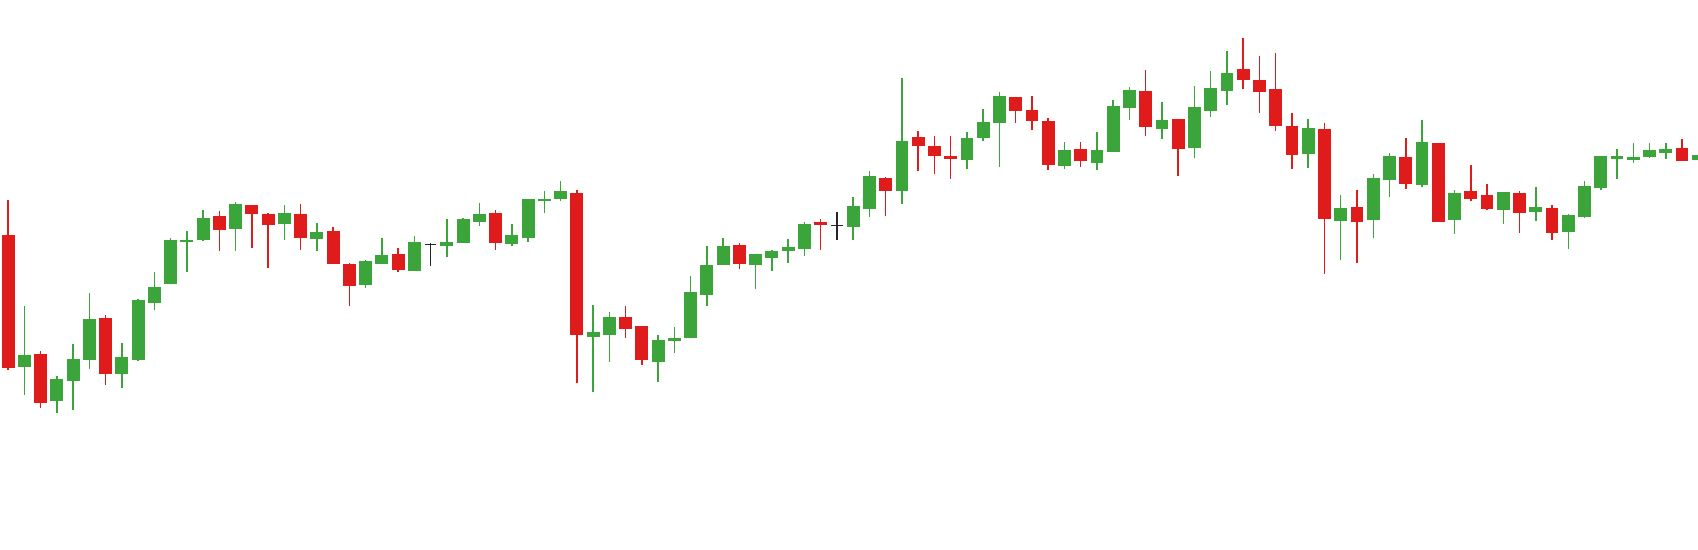sell: (1139, 36, 1252, 126)
